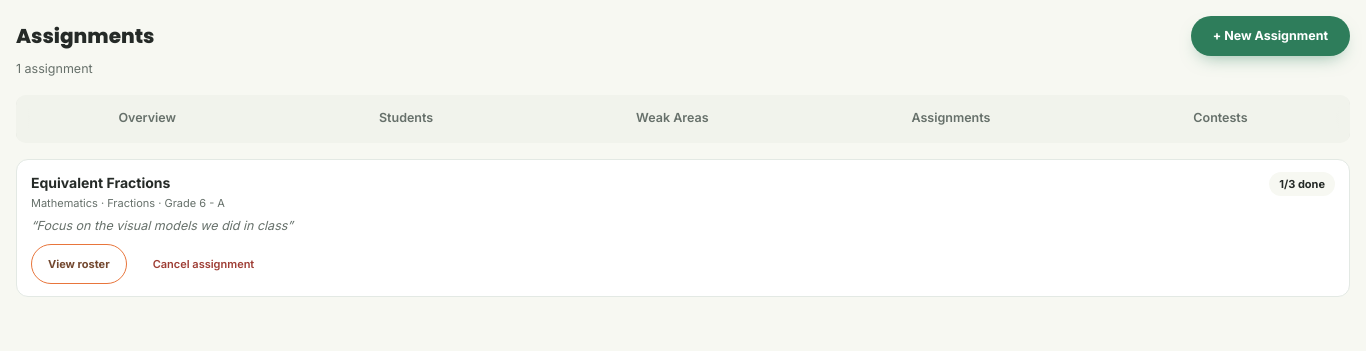
TeacherAssignments › cancelling: confirming deletes the assignment and removes it from the list
Check: the text "Equivalent Fractions" is shown, box 31,174 -> 170,191
Click the button "Cancel assignment".
click(203, 264)  # box 139,244 -> 268,284
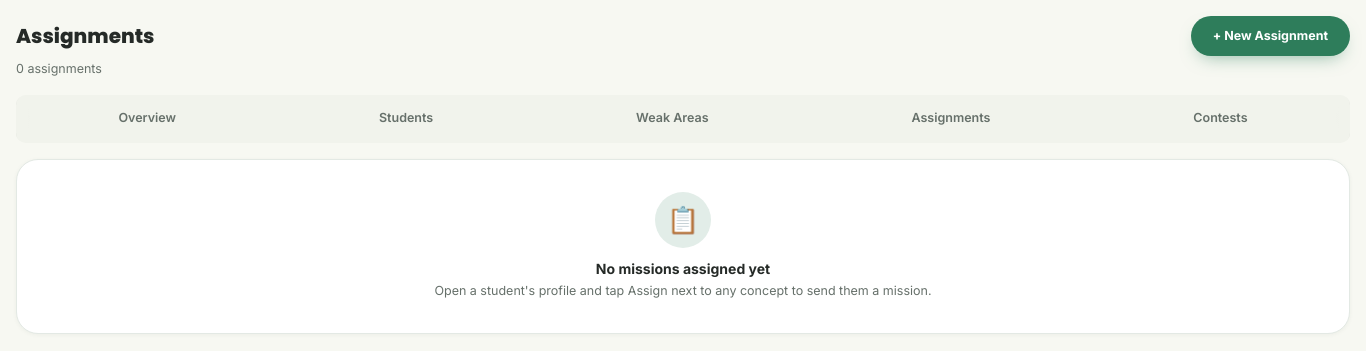
Check: the text "No missions assigned yet" is shown, box 596,260 -> 770,277
